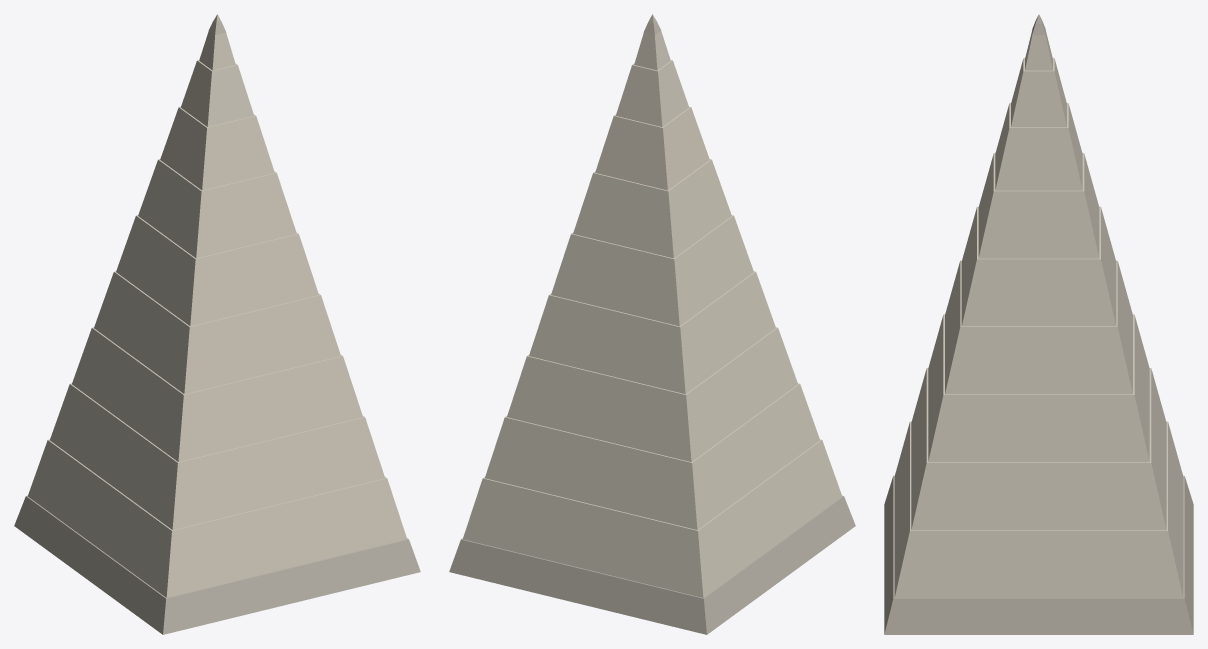
The model's file is ric-hollywood-cemetery-pyramid.glb.
The picture shows the model from 3 angles, left to right: view 1: azimuth 30°, elevation 25°; view 2: azimuth 150°, elevation 25°; view 3: azimuth 270°, elevation 25°; orthographic projection. The views are drawn at different scales.
Parts seen in each view (by area): view 1: Confederate Pyramid, Hollywood Cemetery; view 2: Confederate Pyramid, Hollywood Cemetery; view 3: Confederate Pyramid, Hollywood Cemetery.
Part boxes in pixels (left/top/right/bottom): Confederate Pyramid, Hollywood Cemetery: left=14, top=14, right=420, bottom=634; Confederate Pyramid, Hollywood Cemetery: left=449, top=14, right=855, bottom=634; Confederate Pyramid, Hollywood Cemetery: left=884, top=14, right=1193, bottom=634.
Bounding box in the file's own units: 13.82 × 27.4 × 13.82.
